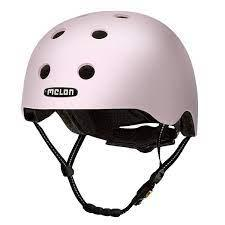helmet: (15, 6, 210, 152)
